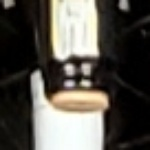bottle: (32, 35, 129, 129)
